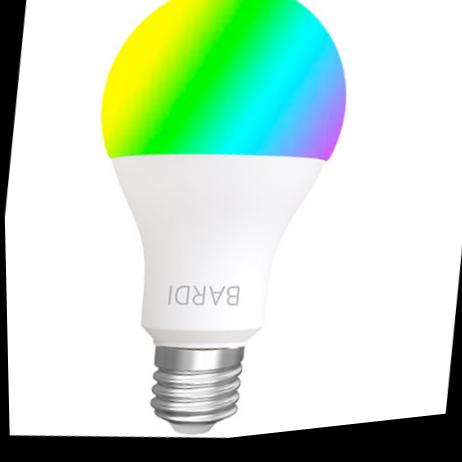Bulb: (41, 0, 389, 458)
